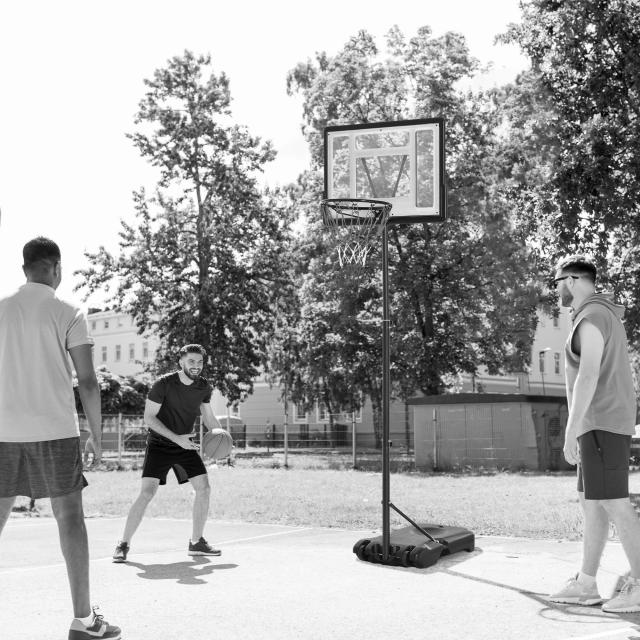backboard: (321, 115, 441, 238)
